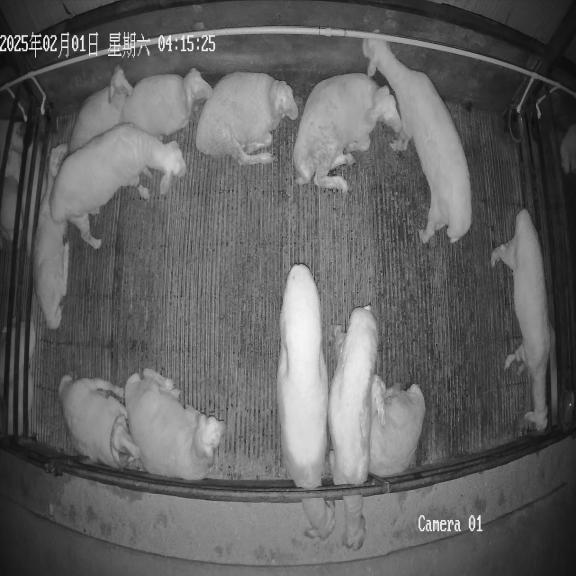eating: (277, 264, 335, 540), (328, 306, 378, 549)
lying: (294, 73, 404, 192), (124, 368, 226, 480), (196, 72, 298, 165), (59, 376, 140, 468), (34, 143, 69, 330), (121, 68, 212, 136), (369, 375, 425, 477), (70, 66, 133, 152)
stand: (362, 38, 472, 243), (50, 125, 186, 249), (490, 209, 555, 431)
